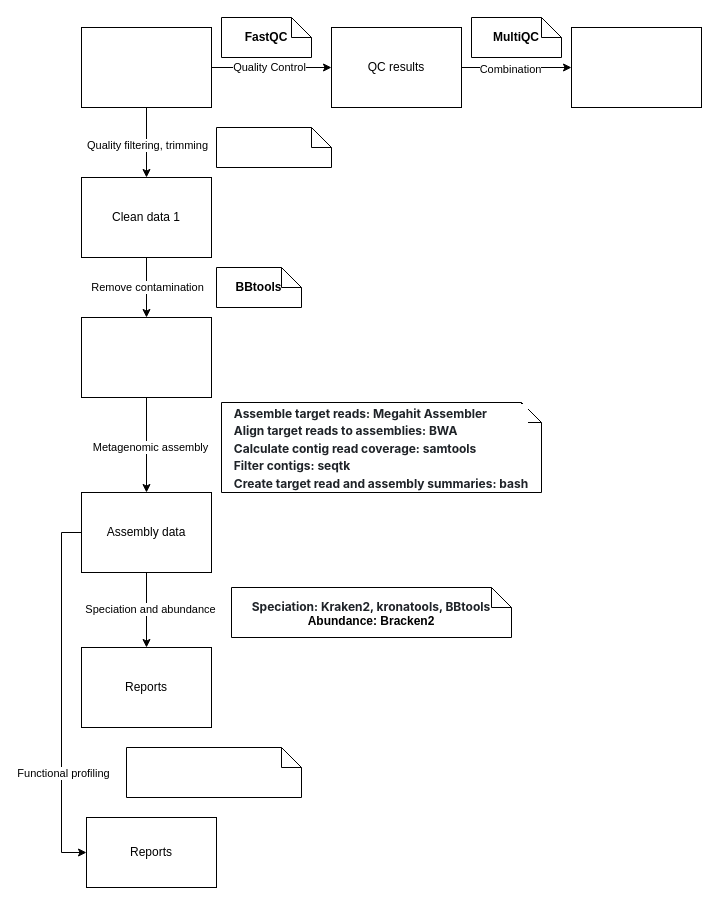
Image size: 719x905. Some labels were removed from this diagram. The shapes that lost their labels are listed below. From the top down, each one's box as (x1, y1, x2, y2) in pixels, then its label:
(80, 26, 212, 108): Raw data
(570, 26, 702, 108): QC result
(216, 126, 332, 168): Trimmomatic
(80, 316, 212, 398): Clean data 2
(126, 746, 302, 798): HUMAnN 2, metaphlan2
